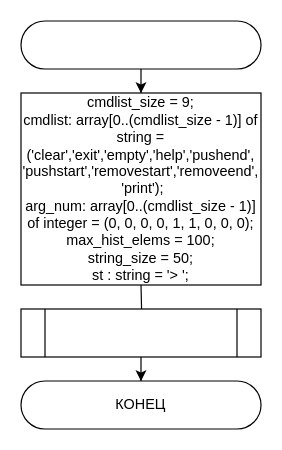
Image size: 282x450. Some labels were removed from this diagram. The shapes that lost their labels are listed below. From the top down, each one's centre as x and y in pixels, then its label:
(x=140, y=44): НАЧАЛО
(x=140, y=332): start
